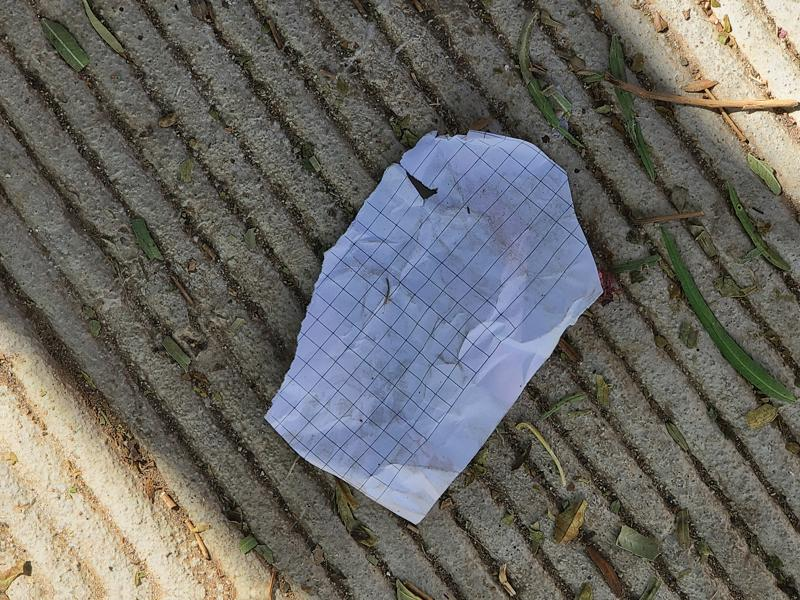papel: (263, 132, 604, 527)
